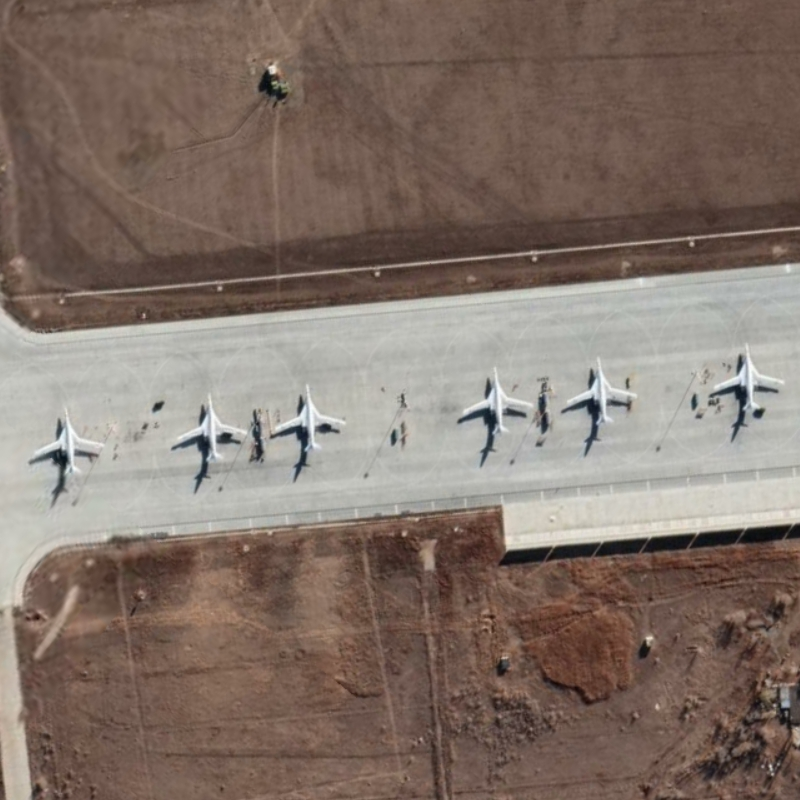A6: (175, 390, 252, 464), (710, 340, 787, 413), (272, 381, 348, 454), (460, 364, 535, 437), (31, 406, 106, 478), (565, 355, 640, 427)
